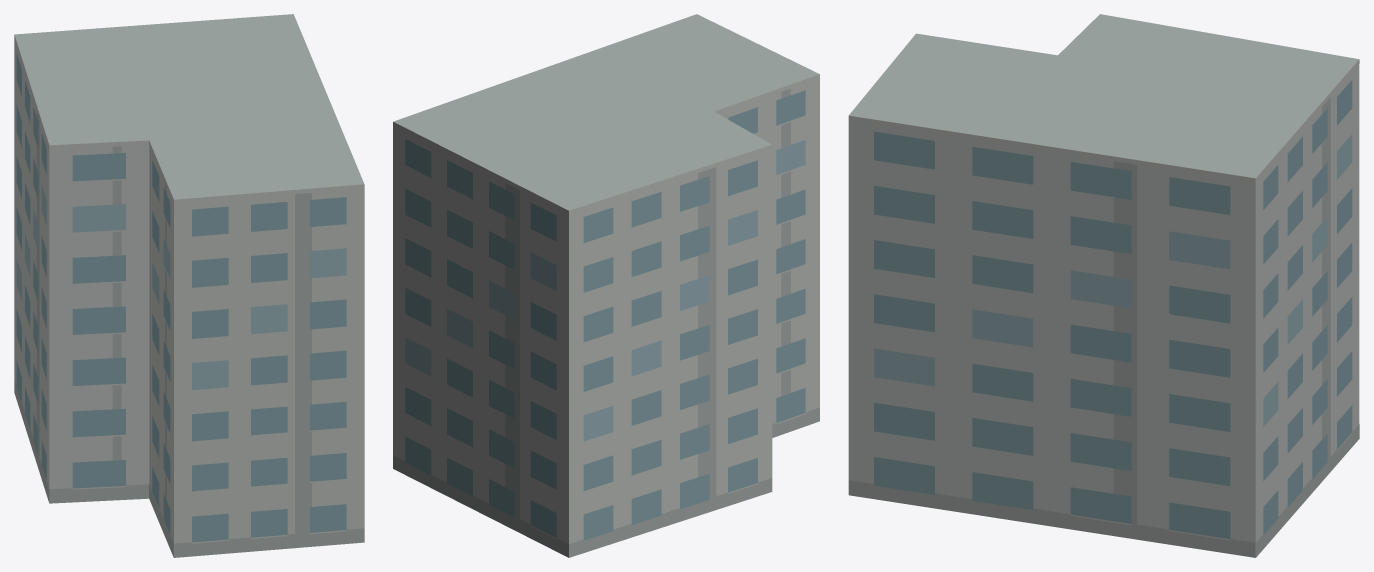
Rendered from survey-upis-32733347.glb.
3 renders of one model, left to right at view 1: azimuth 30°, elevation 25°; view 2: azimuth 150°, elevation 25°; view 3: azimuth 270°, elevation 25°, orthographic. The views are drawn at different scales.
Parts seen in each view (by area): view 1: survey-upis-32733347.tmp; view 2: survey-upis-32733347.tmp; view 3: survey-upis-32733347.tmp.
Boxes of the visible parts, left/top/right/bottom form: survey-upis-32733347.tmp: left=14, top=14, right=364, bottom=557; survey-upis-32733347.tmp: left=393, top=14, right=819, bottom=557; survey-upis-32733347.tmp: left=848, top=14, right=1359, bottom=557.
Bounding box in the file's own units: 18.58 × 20 × 24.4.
